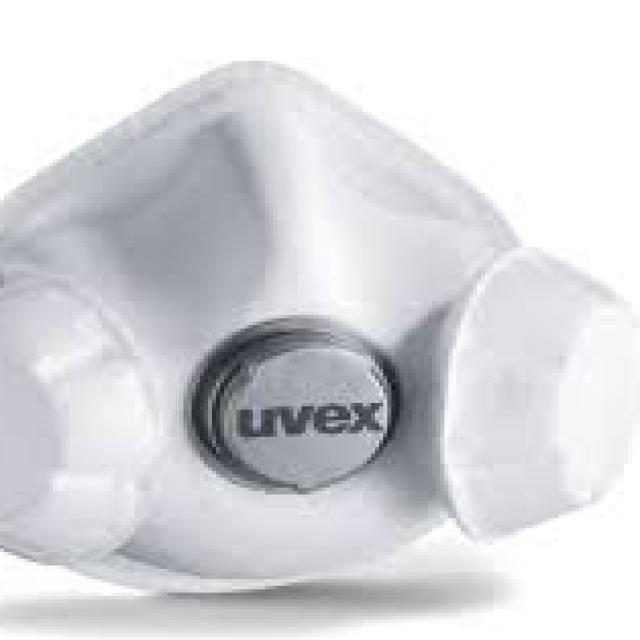organic: (15, 64, 621, 604)
